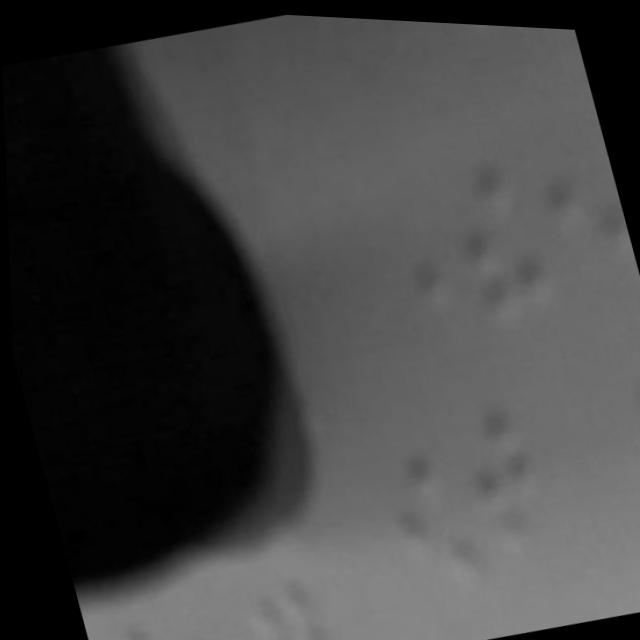braiile: (438, 146, 565, 337), (358, 432, 487, 604), (526, 98, 636, 279), (447, 398, 562, 564), (606, 299, 640, 476)
